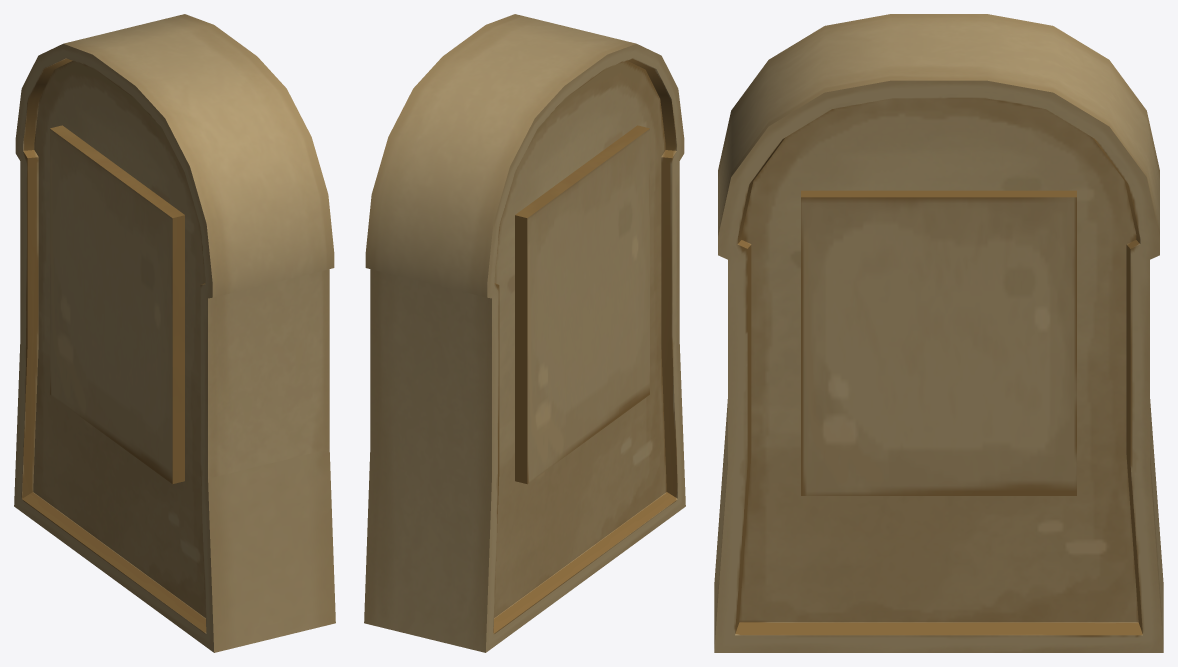
Rendered from gravestone2.fbx.
The picture shows the model from 3 angles, left to right: view 1: azimuth 30°, elevation 25°; view 2: azimuth 150°, elevation 25°; view 3: azimuth 270°, elevation 25°; orthographic projection. The views are drawn at different scales.
Parts seen in each view (by area): view 1: gravestone; view 2: gravestone; view 3: gravestone.
Boxes of the visible parts, <box> form: gravestone: <box>14,14,335,652</box>; gravestone: <box>364,14,685,652</box>; gravestone: <box>714,14,1163,652</box>.
Size of the model in its own units: 31.46 by 120 by 85.44.
